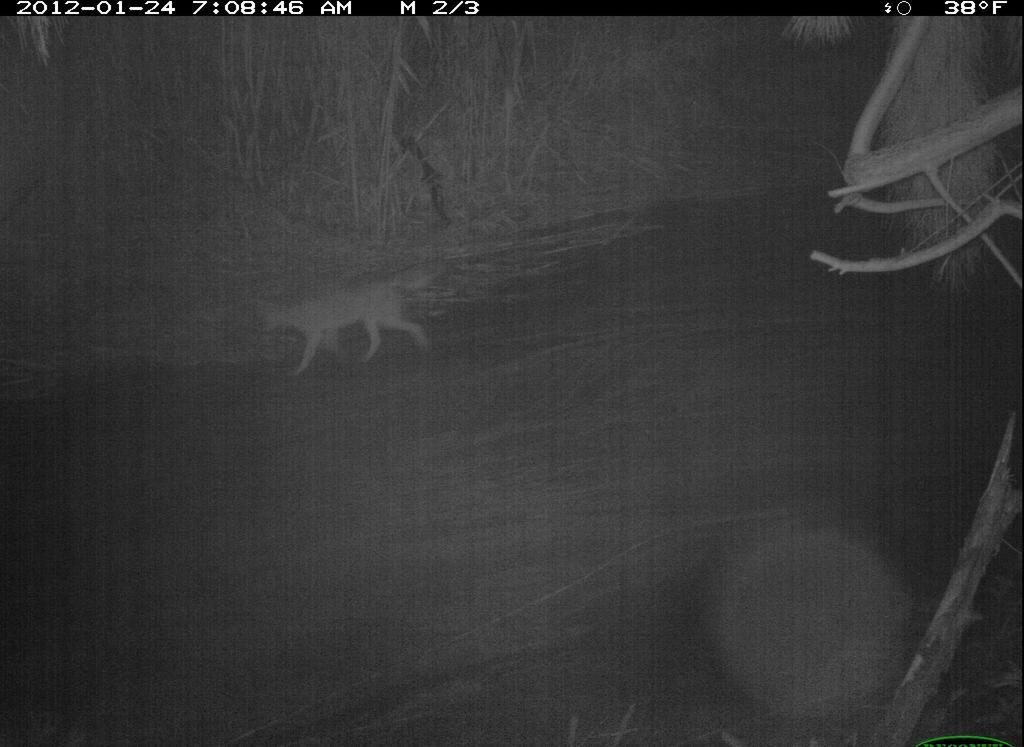coyote: (259, 259, 461, 379)
